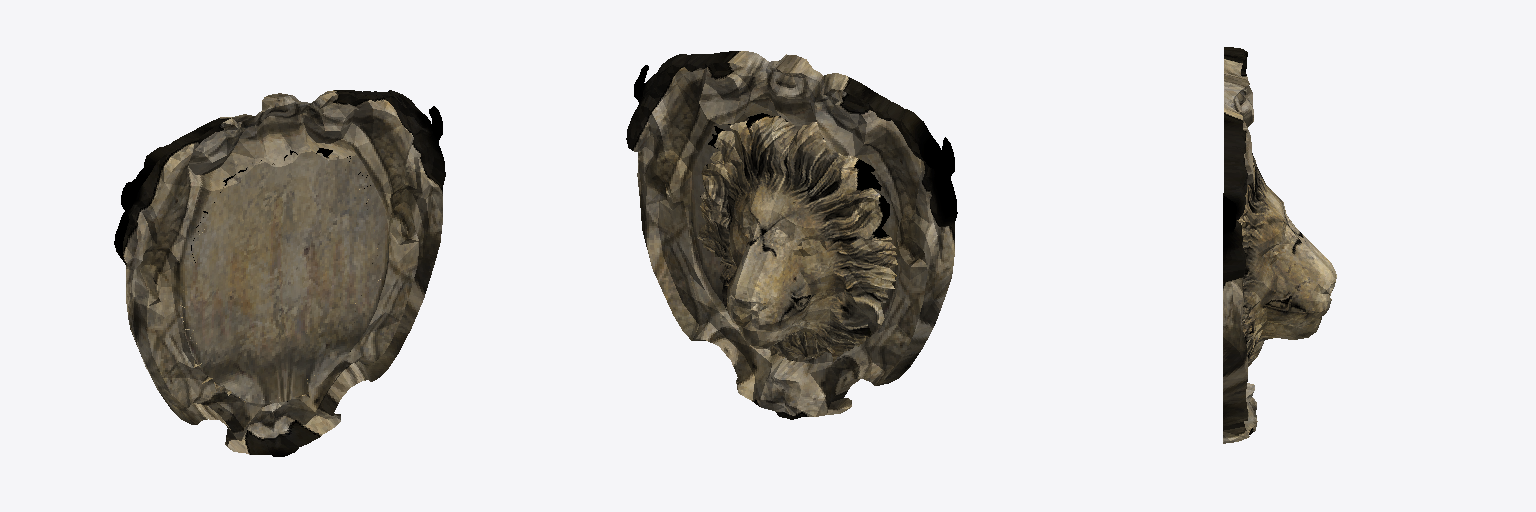
3 views of the same model, side by side, from view 1: azimuth 30°, elevation 25°; view 2: azimuth 150°, elevation 25°; view 3: azimuth 270°, elevation 25° (orthographic).
Parts seen in each view (by area): view 1: sponza_378.001; view 2: sponza_378.001, sponza_378; view 3: sponza_378, sponza_378.001.
Part boxes in pixels (x1,y1,x2,y2): sponza_378.001: (114, 90, 445, 456); sponza_378.001: (626, 51, 957, 419); sponza_378: (697, 113, 897, 361); sponza_378: (1237, 153, 1336, 366); sponza_378.001: (1223, 47, 1257, 443).
Bounding box in the file's own units: 7.47 × 7.97 × 2.27.
Materials: 2 (2 with a texture image).